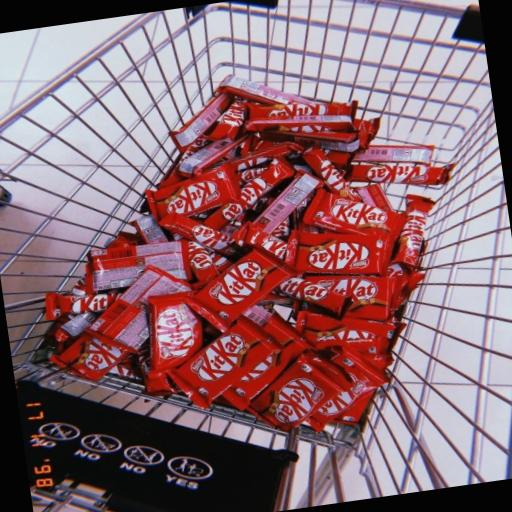kitkat: (244, 192, 453, 334)
